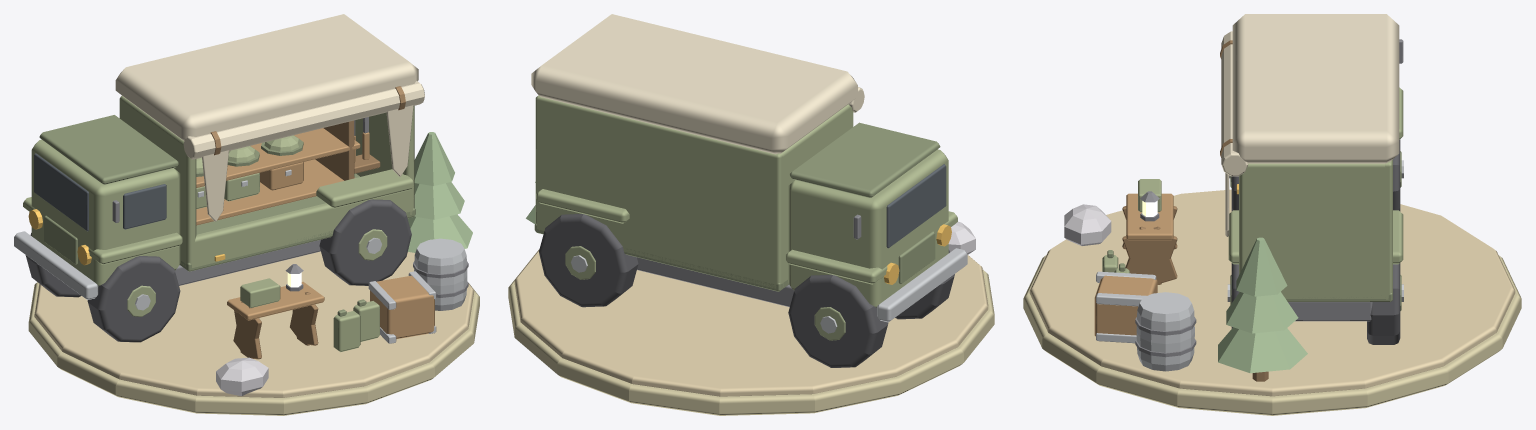
Rendered from merchant_shop.glb.
3 renders of one model, left to right at view 1: azimuth 30°, elevation 25°; view 2: azimuth 150°, elevation 25°; view 3: azimuth 270°, elevation 25°, orthographic. The views are drawn at different scales.
Visible parts, largest first — view 1: MerchantShop; view 2: MerchantShop; view 3: MerchantShop.
Boxes of the visible parts, x1,y1,x2,y2 form: MerchantShop: (14,14,479,415); MerchantShop: (508,14,994,415); MerchantShop: (1023,14,1521,415).
Bounding box in the file's own units: 6.48 × 3.6 × 6.3.
